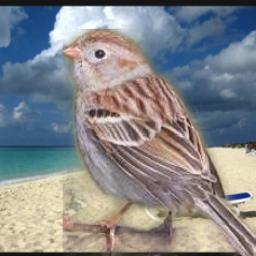Sparrow: (62, 30, 255, 256)
